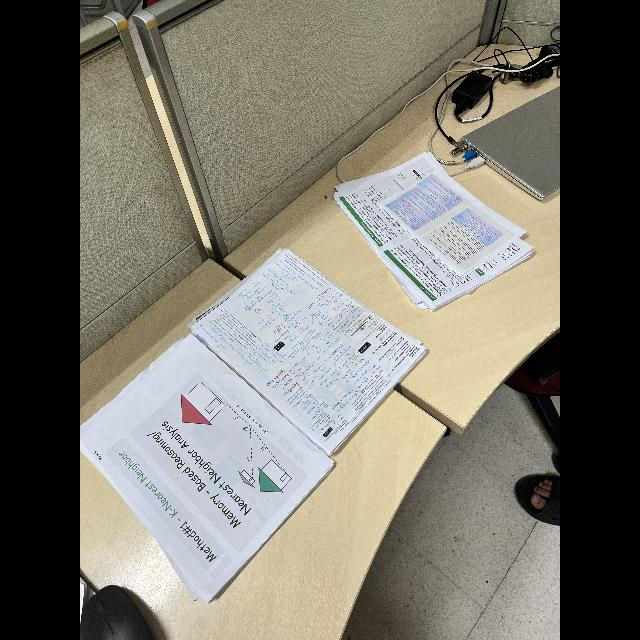reuseable_paper: (80, 244, 430, 606), (330, 146, 538, 312)
